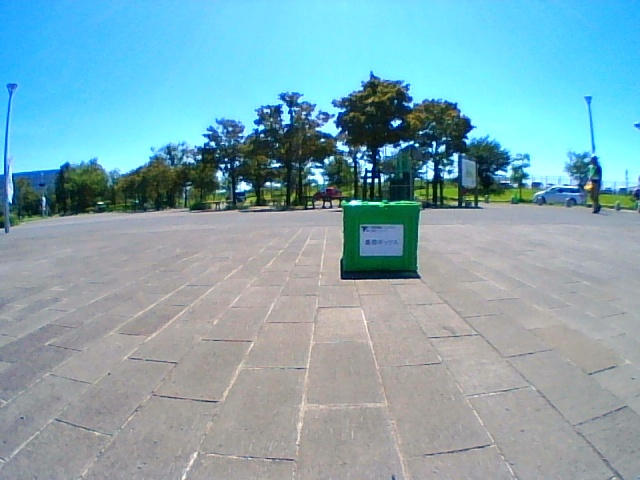green_box: (342, 201, 418, 273)
